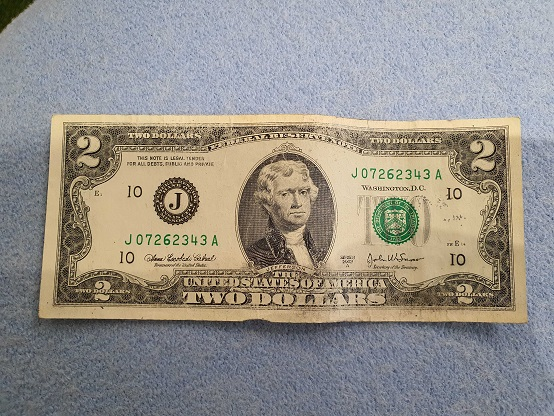2dollar: (41, 114, 529, 326)
